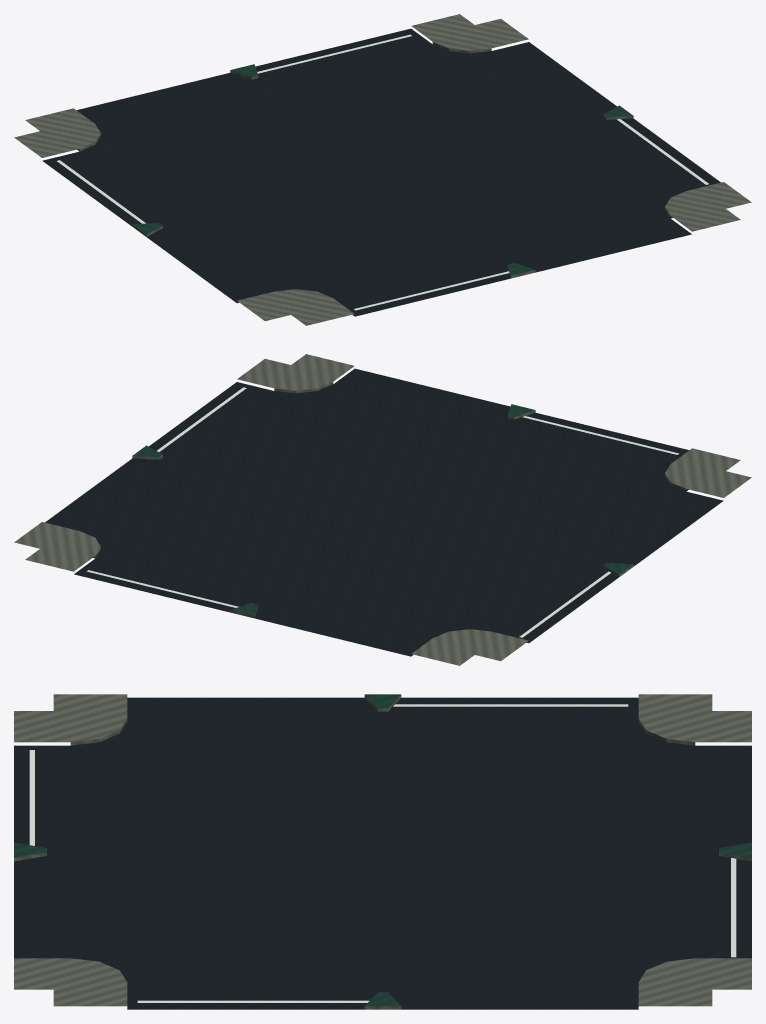
File: junc_cross_6x6_LOD2.glb
3 renders of one model, top to bottom at view 1: azimuth 30°, elevation 25°; view 2: azimuth 150°, elevation 25°; view 3: azimuth 270°, elevation 25°, orthographic. The views are drawn at different scales.
Visible parts, largest first — view 1: junc_cross_6x6__surface.002, junc_cross_6x6__rounded_corner_curb.002, junc_cross_6x6__stop_line_paint.002, junc_cross_6x6__median_ends.002; view 2: junc_cross_6x6__surface.002, junc_cross_6x6__rounded_corner_curb.002, junc_cross_6x6__stop_line_paint.002, junc_cross_6x6__median_ends.002; view 3: junc_cross_6x6__surface.002, junc_cross_6x6__rounded_corner_curb.002, junc_cross_6x6__stop_line_paint.002, junc_cross_6x6__median_ends.002.
Part boxes in pixels (x1,y1,x2,y2): junc_cross_6x6__surface.002: [42, 28, 720, 316]; junc_cross_6x6__rounded_corner_curb.002: [14, 14, 751, 325]; junc_cross_6x6__stop_line_paint.002: [57, 34, 708, 310]; junc_cross_6x6__median_ends.002: [132, 64, 633, 278]; junc_cross_6x6__surface.002: [45, 368, 723, 656]; junc_cross_6x6__rounded_corner_curb.002: [14, 354, 751, 665]; junc_cross_6x6__stop_line_paint.002: [87, 387, 678, 637]; junc_cross_6x6__median_ends.002: [132, 404, 633, 618]; junc_cross_6x6__surface.002: [14, 697, 751, 1009]; junc_cross_6x6__rounded_corner_curb.002: [14, 694, 751, 1006]; junc_cross_6x6__stop_line_paint.002: [29, 704, 736, 1002]; junc_cross_6x6__median_ends.002: [14, 694, 751, 1009].
Bounding box in the file's own units: 28 × 0.145 × 28.
5 materials, 4 textured.
